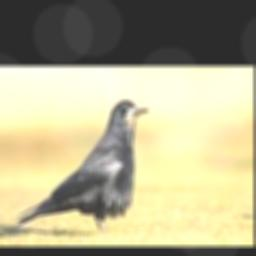Crow: (14, 99, 149, 234)
